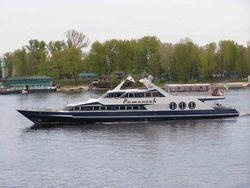yacht: (15, 65, 240, 126)
